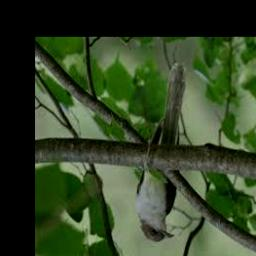Cuckoo: (135, 62, 185, 242)
